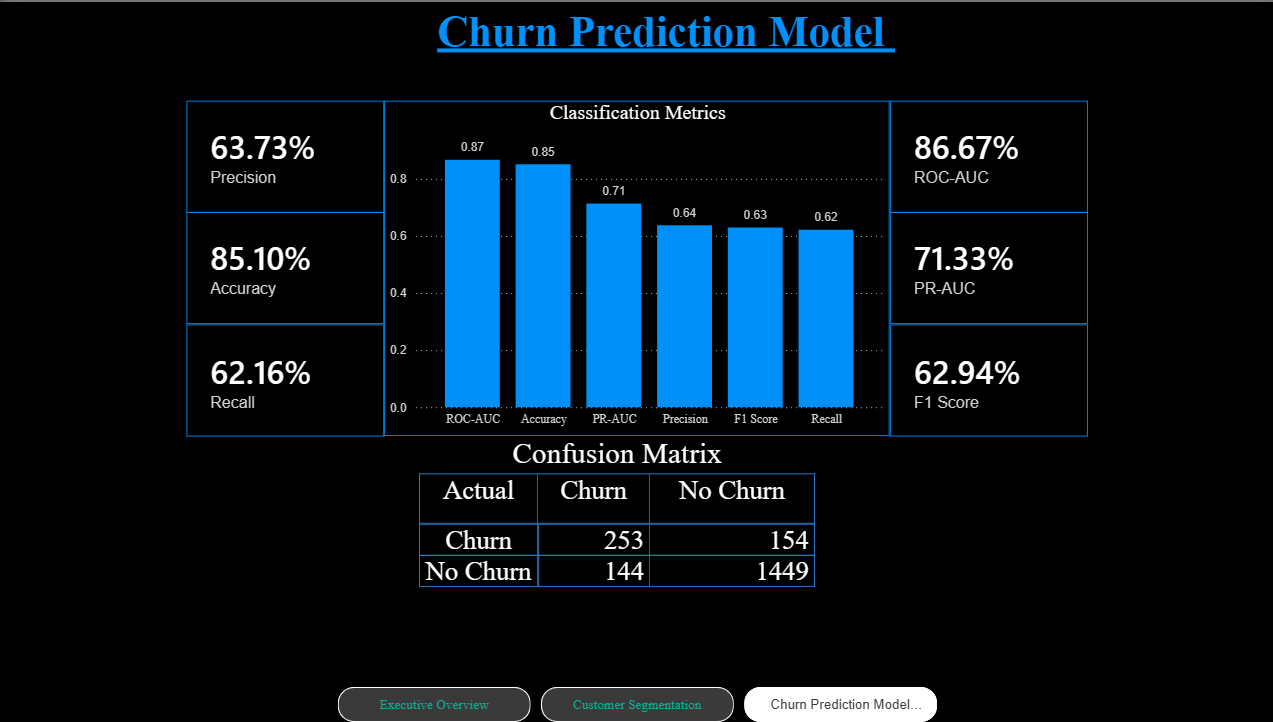

What the dashboard file says about the page in this screenshot:
{"tool":"powerbi","page":{"name":"Churn Prediction Model Insights","canvas":[1280,720],"ordinal":2},"visuals":[{"type":"cardVisual","fields":{"Data":["model_metrics.Accuracy"]},"box":[187.7,210,197.7,111.6],"z":0},{"type":"cardVisual","fields":{"Data":["model_metrics.F1-Score"]},"box":[891.1,322.2,197.8,112.2],"z":1000},{"type":"cardVisual","fields":{"Data":["model_metrics.PR-AUC"]},"box":[891.2,210,197.7,111.6],"z":2000},{"type":"cardVisual","fields":{"Data":["model_metrics.Precision"]},"box":[187.7,98.4,197.7,111.6],"z":3000},{"type":"cardVisual","fields":{"Data":["model_metrics.Recall"]},"box":[187.8,322.2,197.8,112.2],"z":4000},{"type":"cardVisual","fields":{"Data":["model_metrics.ROC-AUC"]},"box":[891.2,98.4,197.7,111.6],"z":5000},{"type":"clusteredColumnChart","title":"Classification Metrics","fields":{"Y":["Sum(model_metrics.Value)"],"Category":["model_metrics.Metric"]},"box":[385.3,98.4,505.8,334.9],"z":6000},{"type":"textbox","box":[319.8,0,694.2,59.3],"z":7000},{"type":"pivotTable","title":"Confusion Matrix","fields":{"Rows":["confusion_matrix.Actual"],"Values":["Sum(confusion_matrix.Count)"],"Columns":["confusion_matrix.Predicted"]},"box":[420,433.8,396.2,165],"z":8000},{"type":"pageNavigator","box":[338.8,685,600,35],"z":9000}]}

Visuals, with their boxes in screenshot pixels (x1, y1, x2, y2), scaled from the page's 1280x720 canvas onto the 1273x722 screenshot:
cardVisual - model_metrics.Accuracy: (x1=187, y1=211, x2=383, y2=322)
cardVisual - model_metrics.F1-Score: (x1=886, y1=323, x2=1083, y2=436)
cardVisual - model_metrics.PR-AUC: (x1=886, y1=211, x2=1083, y2=322)
cardVisual - model_metrics.Precision: (x1=187, y1=99, x2=383, y2=211)
cardVisual - model_metrics.Recall: (x1=187, y1=323, x2=383, y2=436)
cardVisual - model_metrics.ROC-AUC: (x1=886, y1=99, x2=1083, y2=211)
"Classification Metrics" clusteredColumnChart: (x1=383, y1=99, x2=886, y2=435)
textbox: (x1=318, y1=0, x2=1008, y2=59)
"Confusion Matrix" pivotTable: (x1=418, y1=435, x2=812, y2=600)
pageNavigator: (x1=337, y1=687, x2=934, y2=721)
